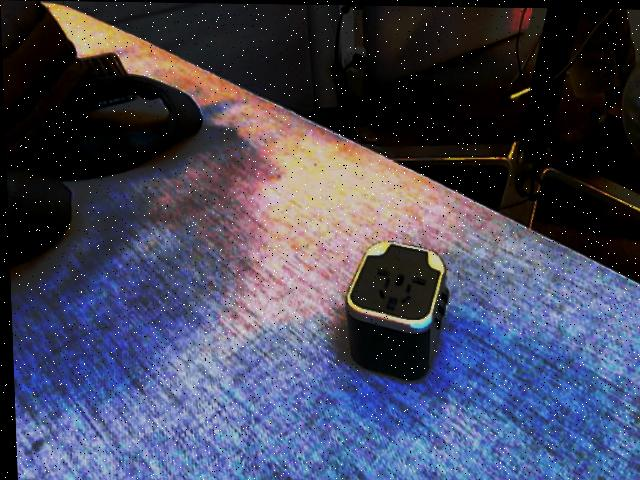adapter: (340, 239, 449, 380)
